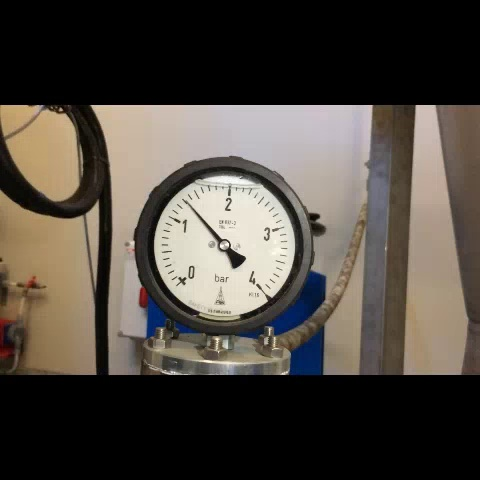Round_Meter: (151, 170, 296, 321)
